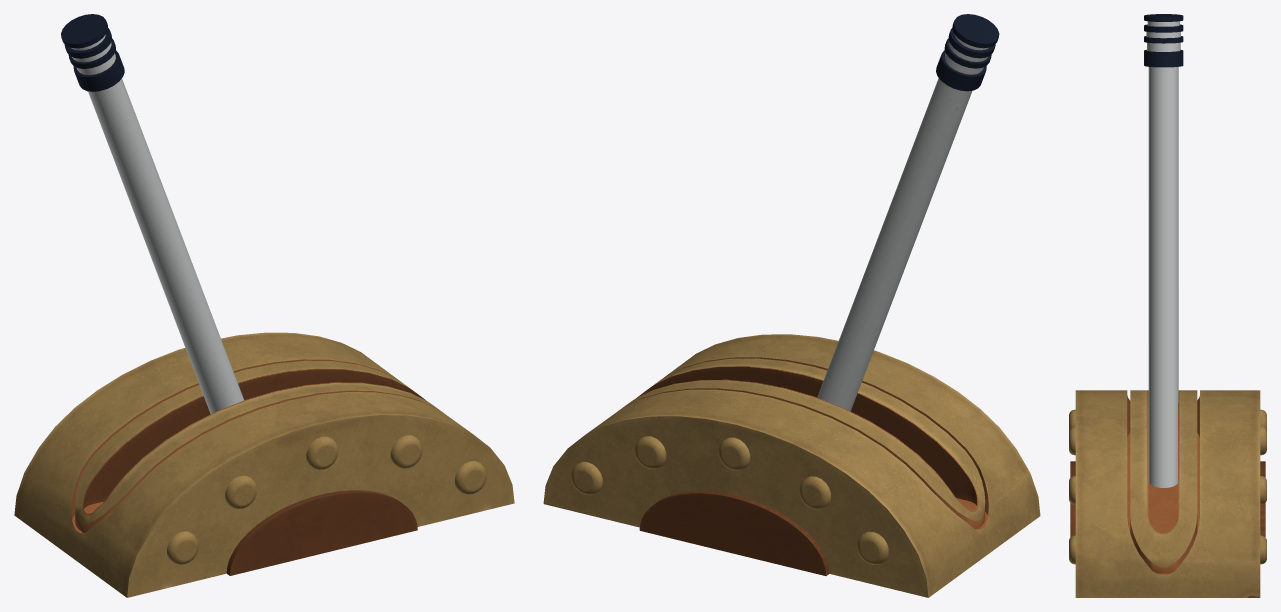
Rendered from Lever.fbx.
3 views of the same model, side by side, from view 1: azimuth 30°, elevation 25°; view 2: azimuth 150°, elevation 25°; view 3: azimuth 270°, elevation 25° (orthographic). The views are drawn at different scales.
Parts seen in each view (by area): view 1: LeverBase, Lever; view 2: LeverBase, Lever; view 3: LeverBase, Lever.
Part boxes in pixels (x1,y1,x2,y2): LeverBase: (14, 332, 514, 597); Lever: (61, 14, 244, 413); LeverBase: (543, 334, 1040, 597); Lever: (817, 14, 999, 411); LeverBase: (1069, 390, 1266, 597); Lever: (1144, 14, 1183, 487).
Size of the model in its own units: 0.3865 by 0.5047 by 0.2041.
